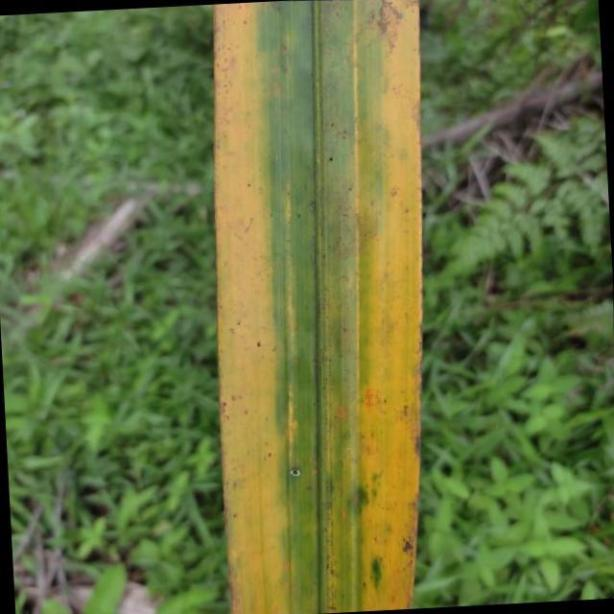Megnesium: (211, 0, 425, 614)
